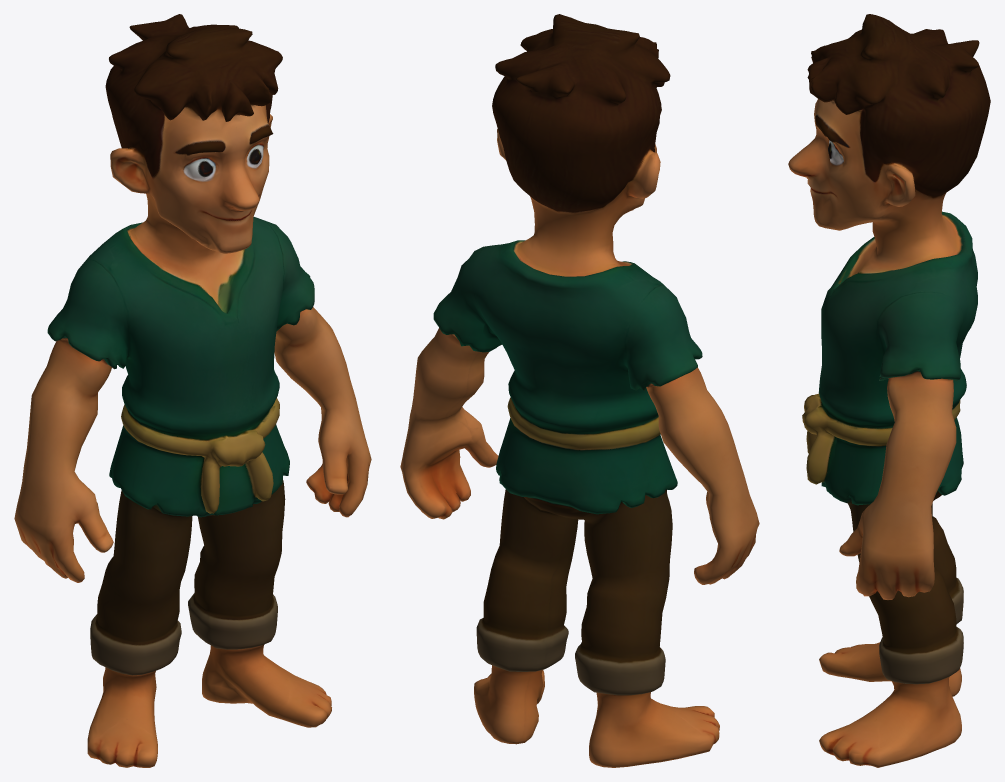
File: base_basic_pbr.fbx
3 views of the same model, side by side, from view 1: azimuth 30°, elevation 25°; view 2: azimuth 150°, elevation 25°; view 3: azimuth 270°, elevation 25° (orthographic). The views are drawn at different scales.
Visible parts, largest first — view 1: model; view 2: model; view 3: model.
Part boxes in pixels (left/top/right/bottom): model: left=14, top=14, right=371, bottom=767; model: left=400, top=14, right=759, bottom=767; model: left=788, top=14, right=990, bottom=767.
Bounding box in the file's own units: 94.81 × 188 × 50.36.
Materials: 1 (1 with a texture image).
